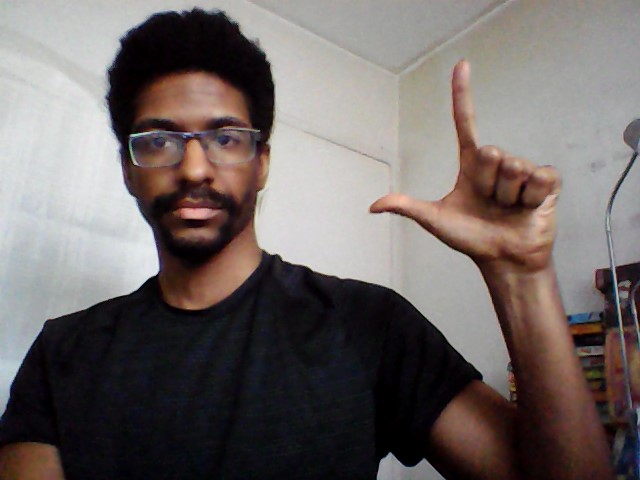l: (363, 54, 566, 272)
